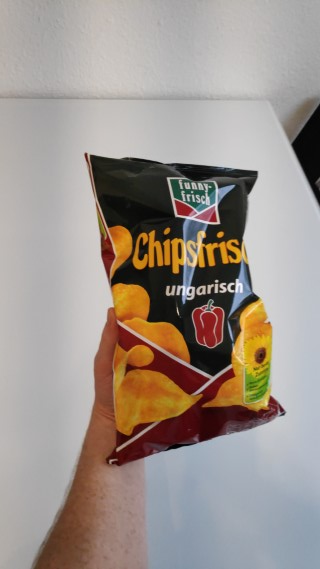chipsfrisch: (84, 152, 288, 467)
